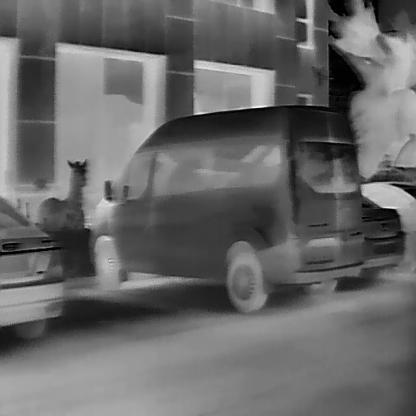car: (86, 103, 361, 311), (0, 194, 62, 326), (360, 182, 415, 262), (361, 194, 401, 273)
